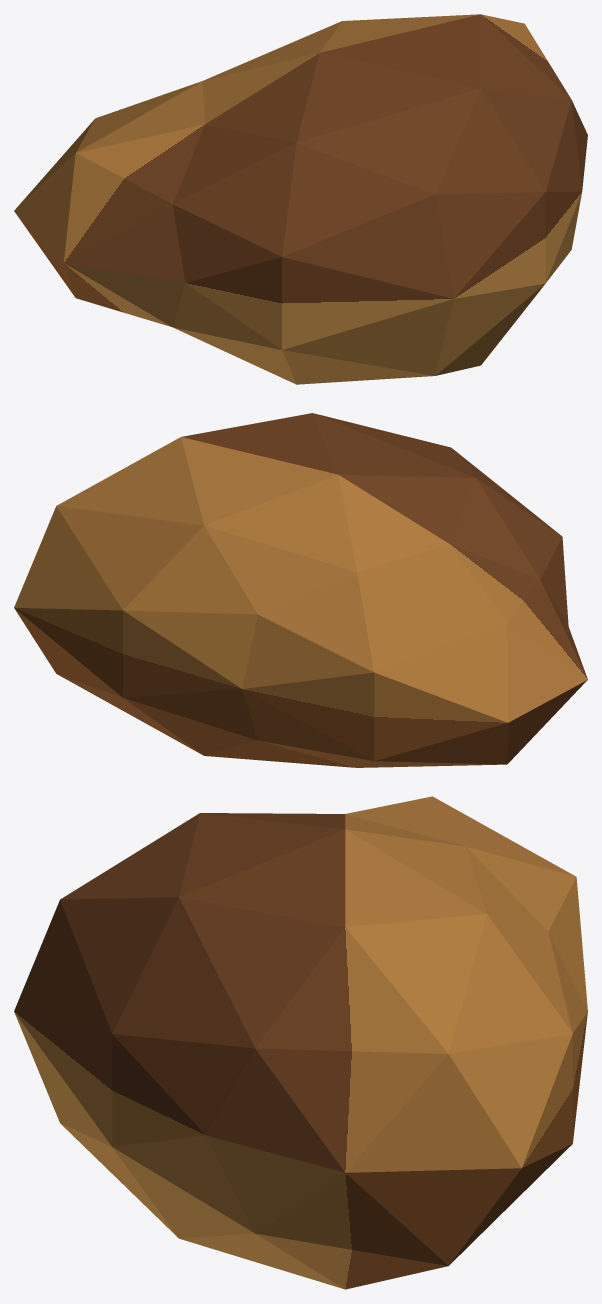
File: Textured-stone.gltf
The picture shows the model from 3 angles, top to bottom: view 1: azimuth 30°, elevation 25°; view 2: azimuth 150°, elevation 25°; view 3: azimuth 270°, elevation 25°; orthographic projection. The views are drawn at different scales.
Parts seen in each view (by area): view 1: Камень; view 2: Камень; view 3: Камень.
Boxes of the visible parts, box(x1,y1,x2,y2) form: Камень: box(14, 14, 587, 384); Камень: box(14, 413, 587, 767); Камень: box(14, 796, 587, 1289).
Size of the model in its own units: 2.6 by 1.4 by 2.
Materials: 1 (1 with a texture image).
